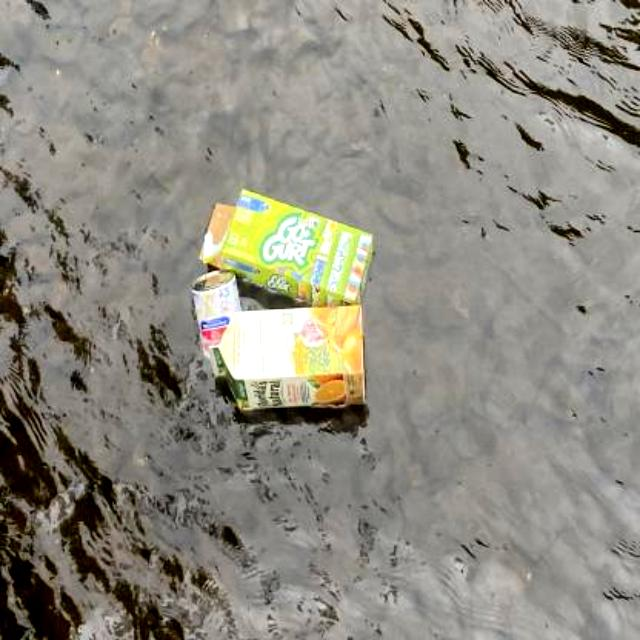Cardboard: (191, 182, 381, 314)
Metal: (191, 302, 371, 418)
